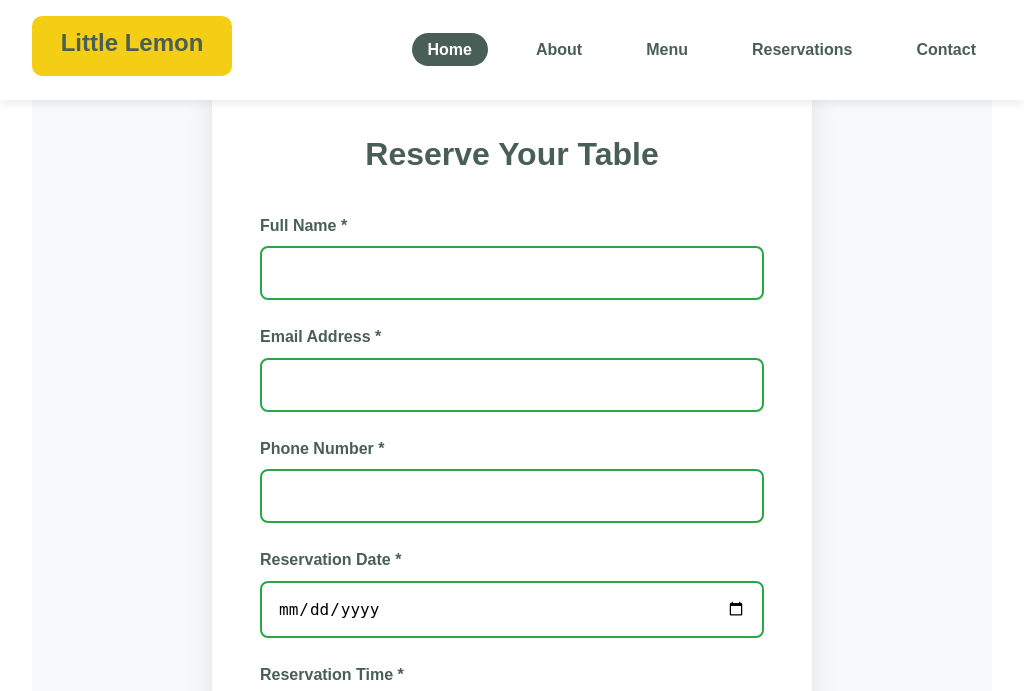
Test: Booking Form Functionality › validates email format
The image size is (1024, 691).
(page scrolled)
Type "invalid-email" into the field labelled "Email Address *".
click(512, 385); type("invalid-email")  # box [260,358,764,412]
(page scrolled)
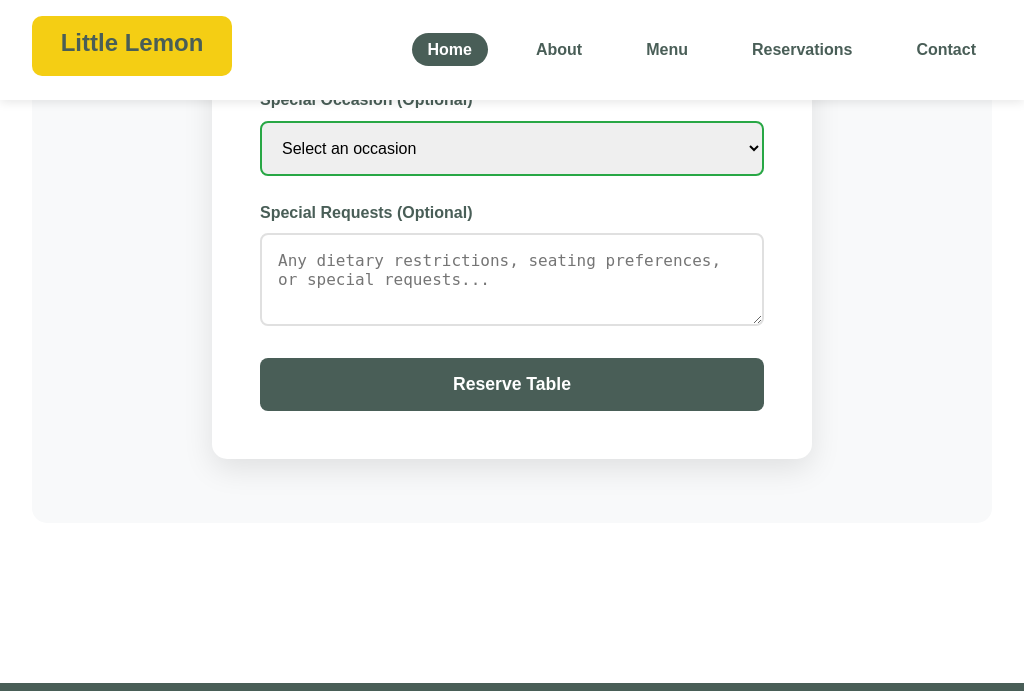
Click the button "Reserve Table".
click(512, 384)  # box [260,358,764,411]
(page scrolled)
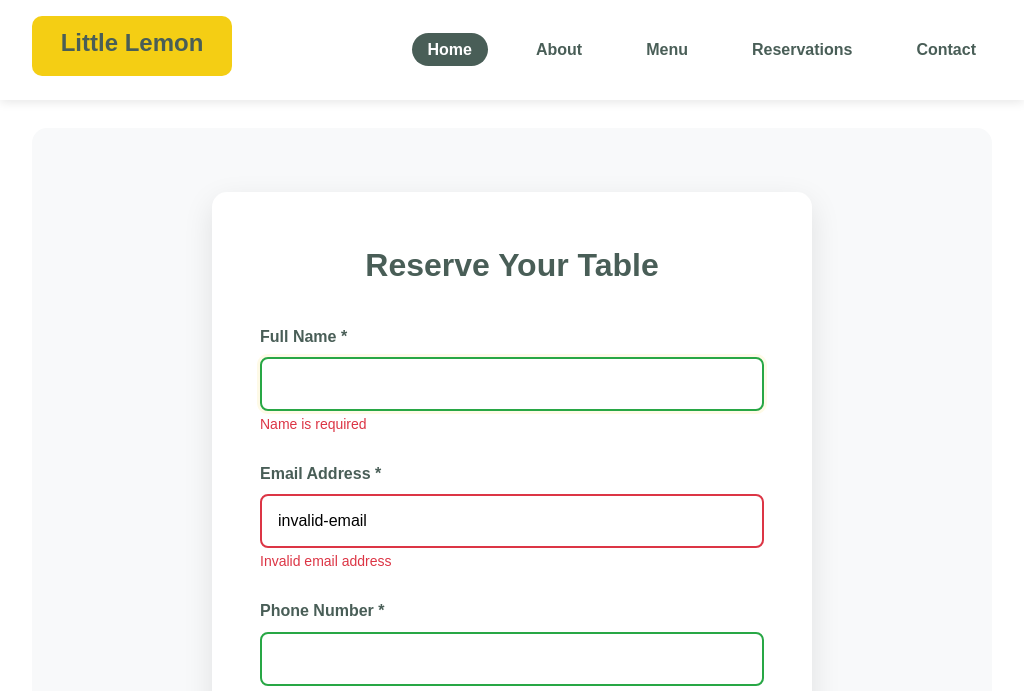
expect the text "Invalid email address" is shown: met, box [260,553,392,569]
